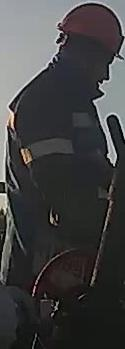helmet: (56, 3, 124, 60)
vest: (6, 64, 109, 281)
